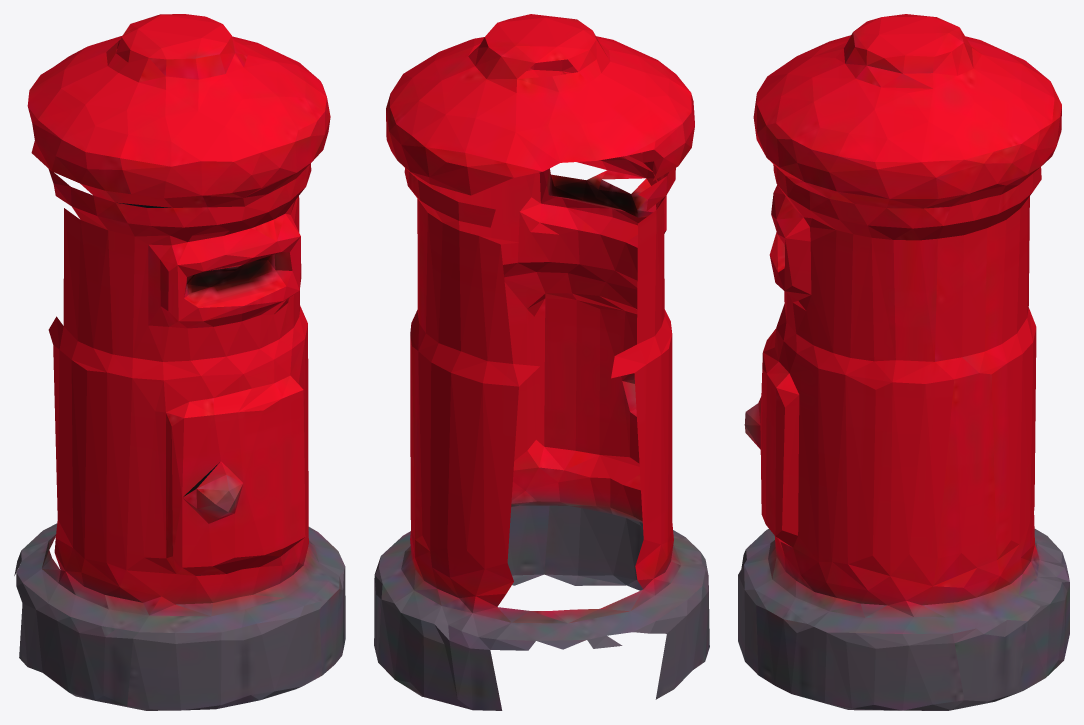
File: M-5_03_mailbox.glb
The picture shows the model from 3 angles, left to right: view 1: azimuth 30°, elevation 25°; view 2: azimuth 150°, elevation 25°; view 3: azimuth 270°, elevation 25°; orthographic projection.
Parts seen in each view (by area): view 1: loA; view 2: loA; view 3: loA.
Part boxes in pixels (x1,y1,x2,y2): loA: (14,14,345,710); loA: (374,14,709,710); loA: (738,14,1069,710).
Size of the model in its own units: 0.9775 by 2.01 by 0.9768.
1 material, 1 textured.
